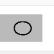no answer: (12, 18, 34, 38)
